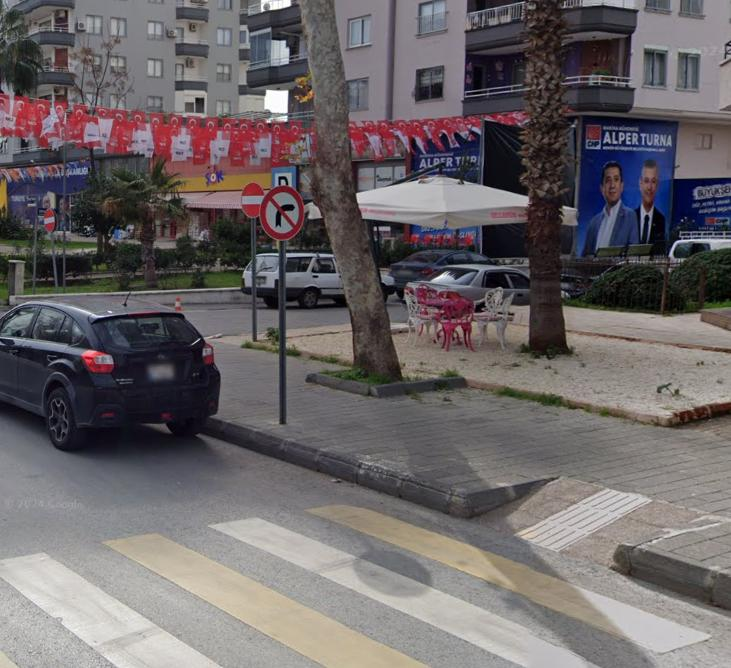rightturnsareforbidden: (263, 190, 303, 238)
